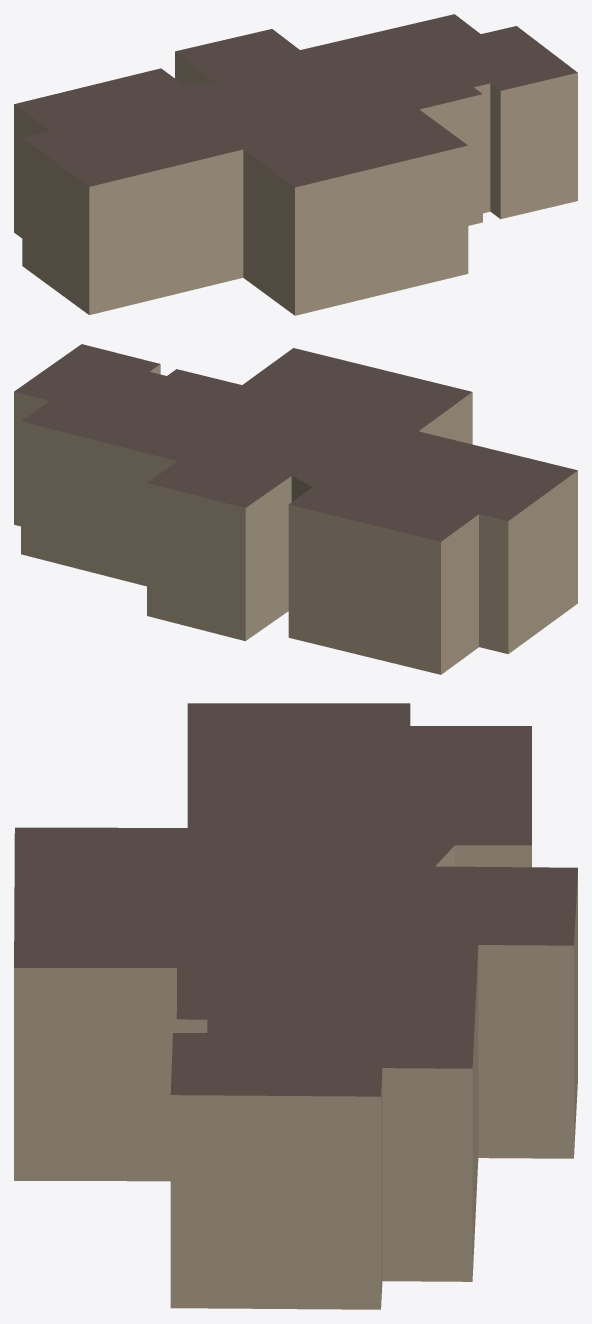
3 views of the same model, one above another, from view 1: azimuth 30°, elevation 25°; view 2: azimuth 150°, elevation 25°; view 3: azimuth 270°, elevation 25° (orthographic). The views are drawn at different scales.
Parts seen in each view (by area): view 1: HP-w1512530039; view 2: HP-w1512530039; view 3: HP-w1512530039.
Part boxes in pixels (box(x1,y1,x2,y2)): HP-w1512530039: box(14, 14, 577, 315); HP-w1512530039: box(14, 344, 577, 674); HP-w1512530039: box(14, 703, 577, 1309).
Bounding box in the file's own units: 35.64 × 9 × 21.59.
